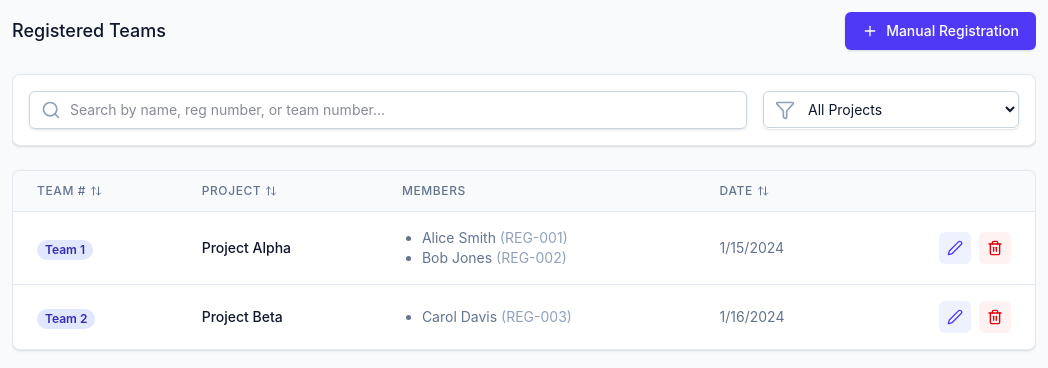
it: TeamsPanel › filter by project shows only matching teams
Expected: the text "Team 1" is shown, [37,240,93,260]
Expected: the text "Team 2" is shown, [37,309,95,329]
Note: The filter select has an "All Projects" option
Select "Project Alpha" in the dropdown at (891, 110), box [763,91,1019,128]
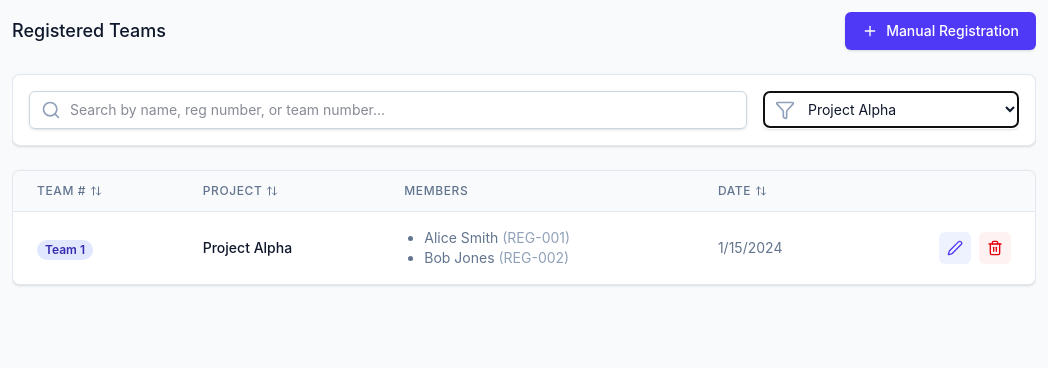
Expected: the text "Team 1" is shown, [37,240,93,260]
Now the text "Team 2" is gone
